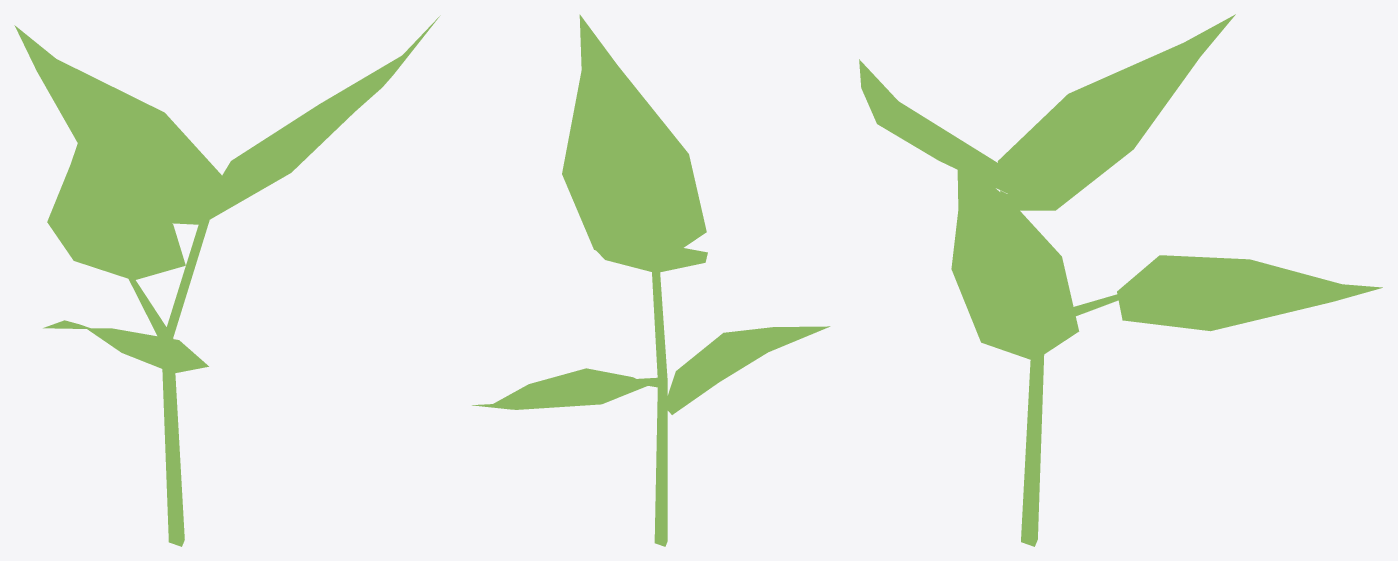
File: Plant_f_OneS_05.fbx
3 views of the same model, side by side, from view 1: azimuth 30°, elevation 25°; view 2: azimuth 150°, elevation 25°; view 3: azimuth 270°, elevation 25° (orthographic). The views are drawn at different scales.
Visible parts, largest first — view 1: Plant_f_OneS_05; view 2: Plant_f_OneS_05; view 3: Plant_f_OneS_05.
Boxes of the visible parts, x1,y1,x2,y2 form: Plant_f_OneS_05: (14,15,440,546); Plant_f_OneS_05: (472,14,830,546); Plant_f_OneS_05: (859,14,1382,546).
Bounding box in the file's own units: 0.4554 × 0.6703 × 0.5512.
